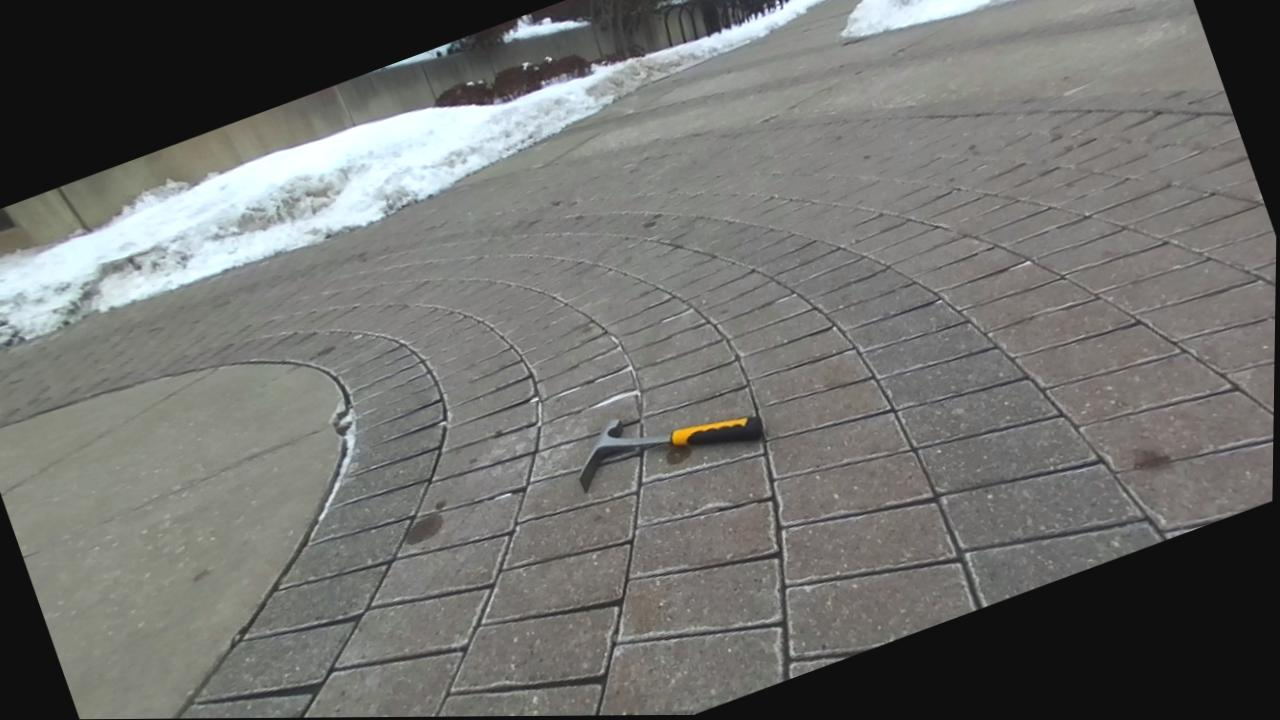pick: (578, 416, 762, 491)
